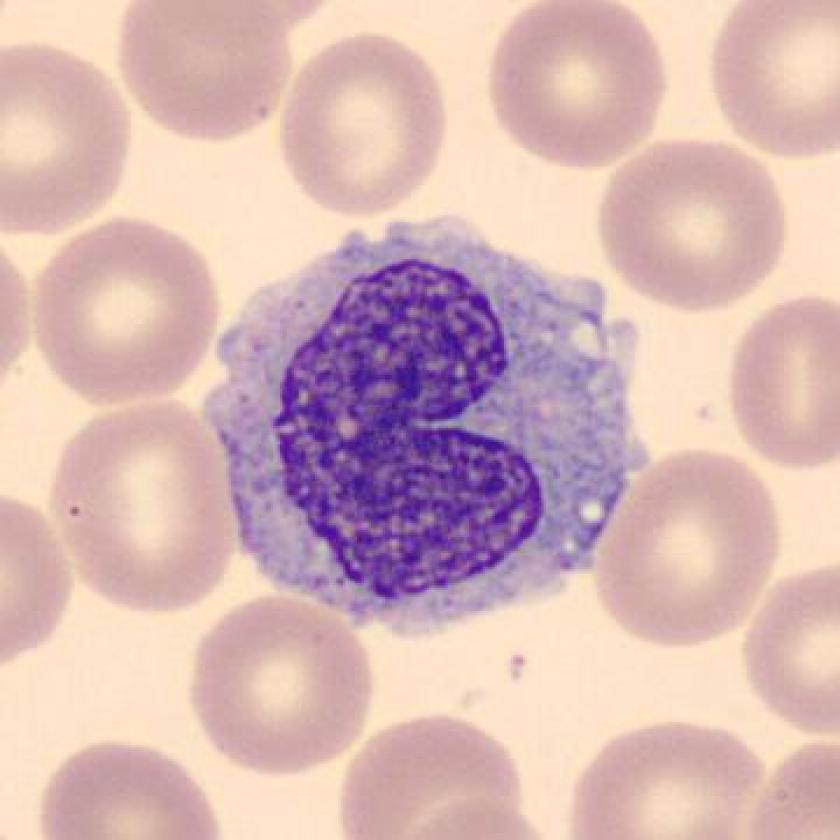monocyte: (185, 195, 673, 635)
